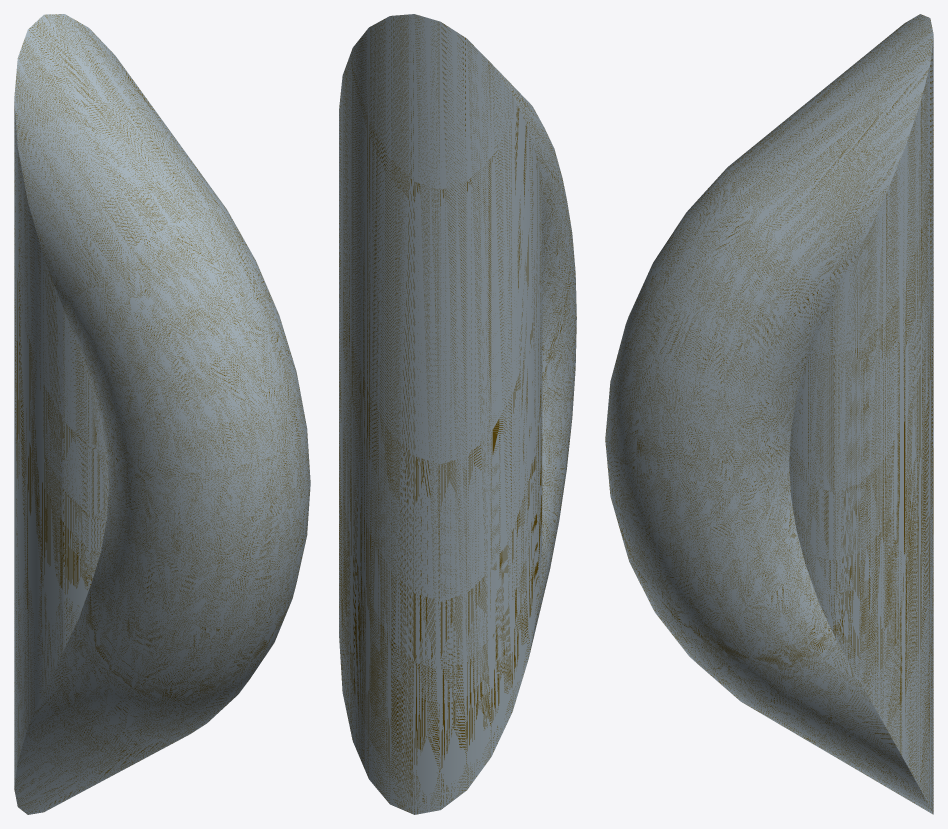
File: seed.fbx
3 renders of one model, left to right at view 1: azimuth 30°, elevation 25°; view 2: azimuth 150°, elevation 25°; view 3: azimuth 270°, elevation 25°, orthographic.
Visible parts, largest first — view 1: Model; view 2: Model; view 3: Model.
Part boxes in pixels (box(x1,y1,x2,y2)): Model: box(14, 14, 310, 814); Model: box(339, 14, 576, 814); Model: box(605, 14, 933, 814).
Bounding box in the file's own units: 0.8967 × 3.33 × 1.25.
